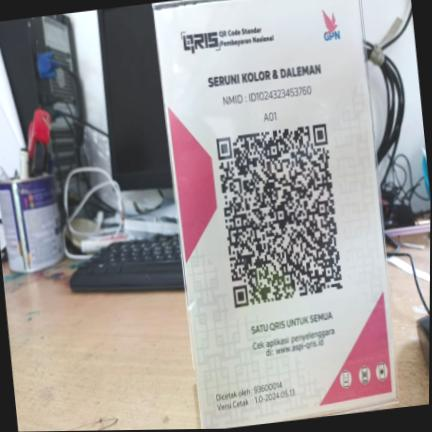Qris-Positioning: (153, 0, 397, 429)
